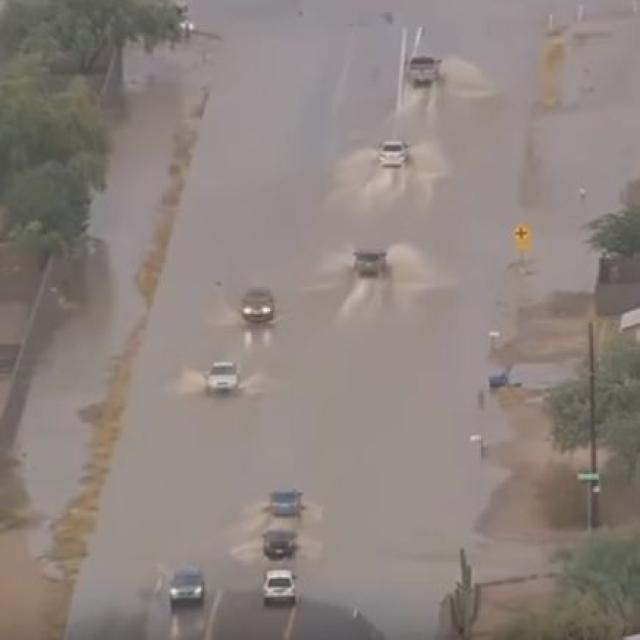flooded_areas: (110, 6, 580, 588)
